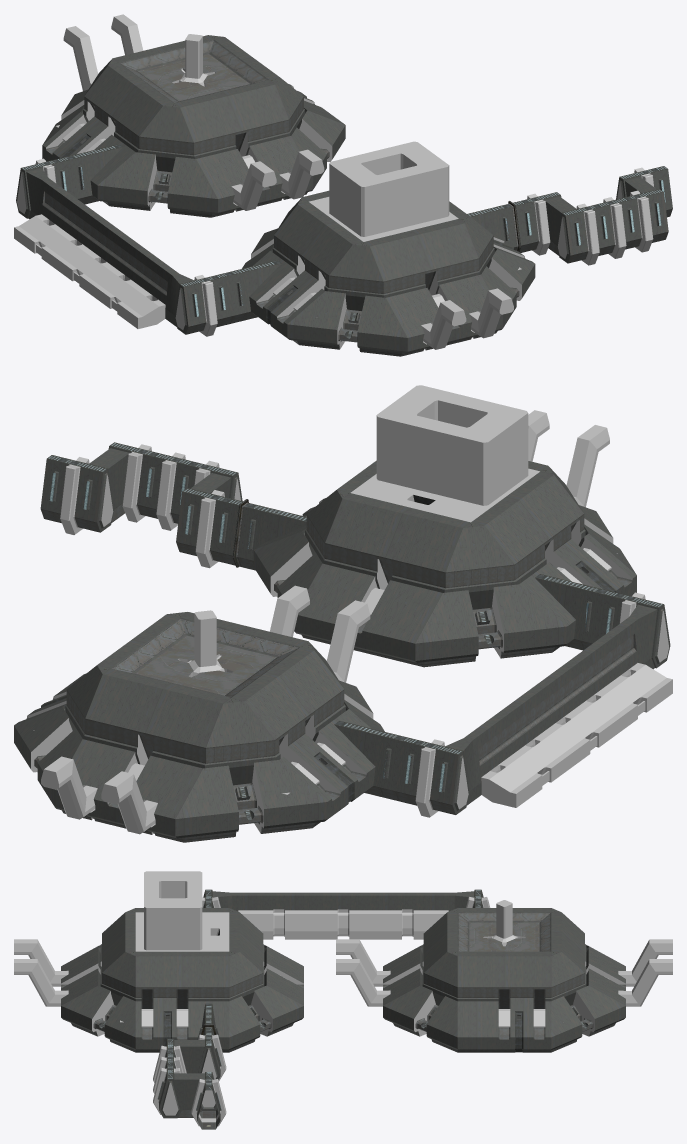
The picture shows the model from 3 angles, top to bottom: view 1: azimuth 30°, elevation 25°; view 2: azimuth 150°, elevation 25°; view 3: azimuth 270°, elevation 25°; orthographic projection. The views are drawn at different scales.
Parts seen in each view (by area): view 1: -Clusters; view 2: -Clusters; view 3: -Clusters.
Boxes of the visible parts, box(x1,y1,x2,y2) form: -Clusters: box(14, 14, 672, 356); -Clusters: box(14, 385, 672, 842); -Clusters: box(14, 871, 672, 1129).
Bounding box in the file's own units: 4282 × 5638 × 1143.
